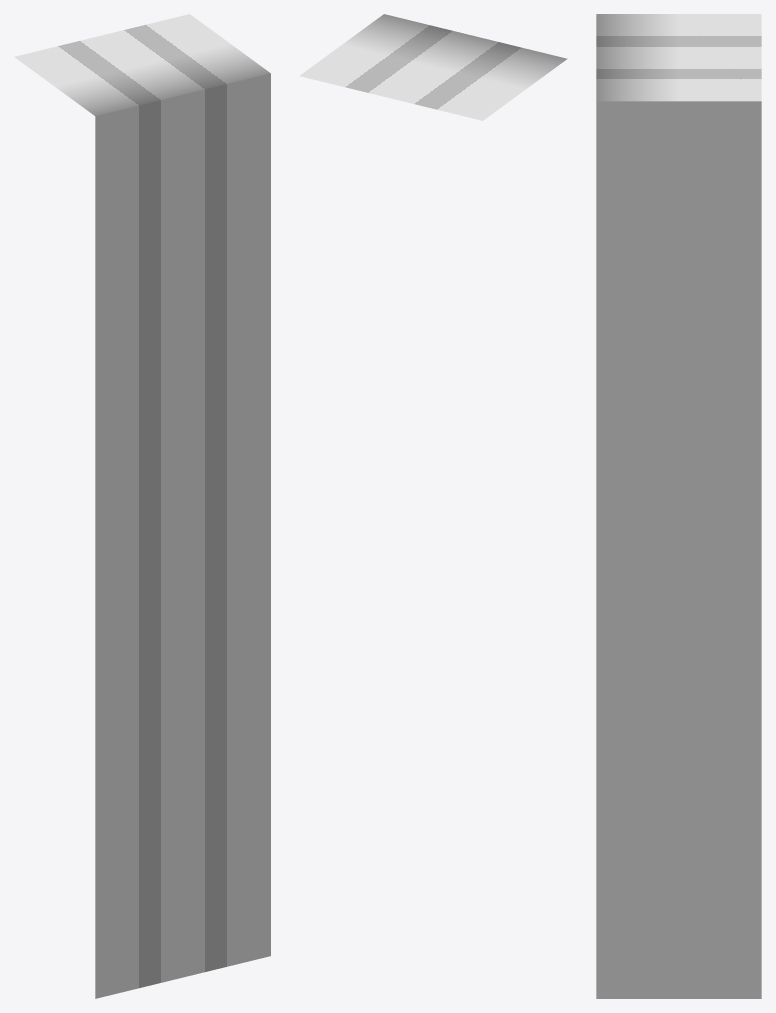
3 views of the same model, side by side, from view 1: azimuth 30°, elevation 25°; view 2: azimuth 150°, elevation 25°; view 3: azimuth 270°, elevation 25° (orthographic). The views are drawn at different scales.
Bounding box in the file's own units: 0.625 × 3 × 0.5.
2 materials, 2 textured.
